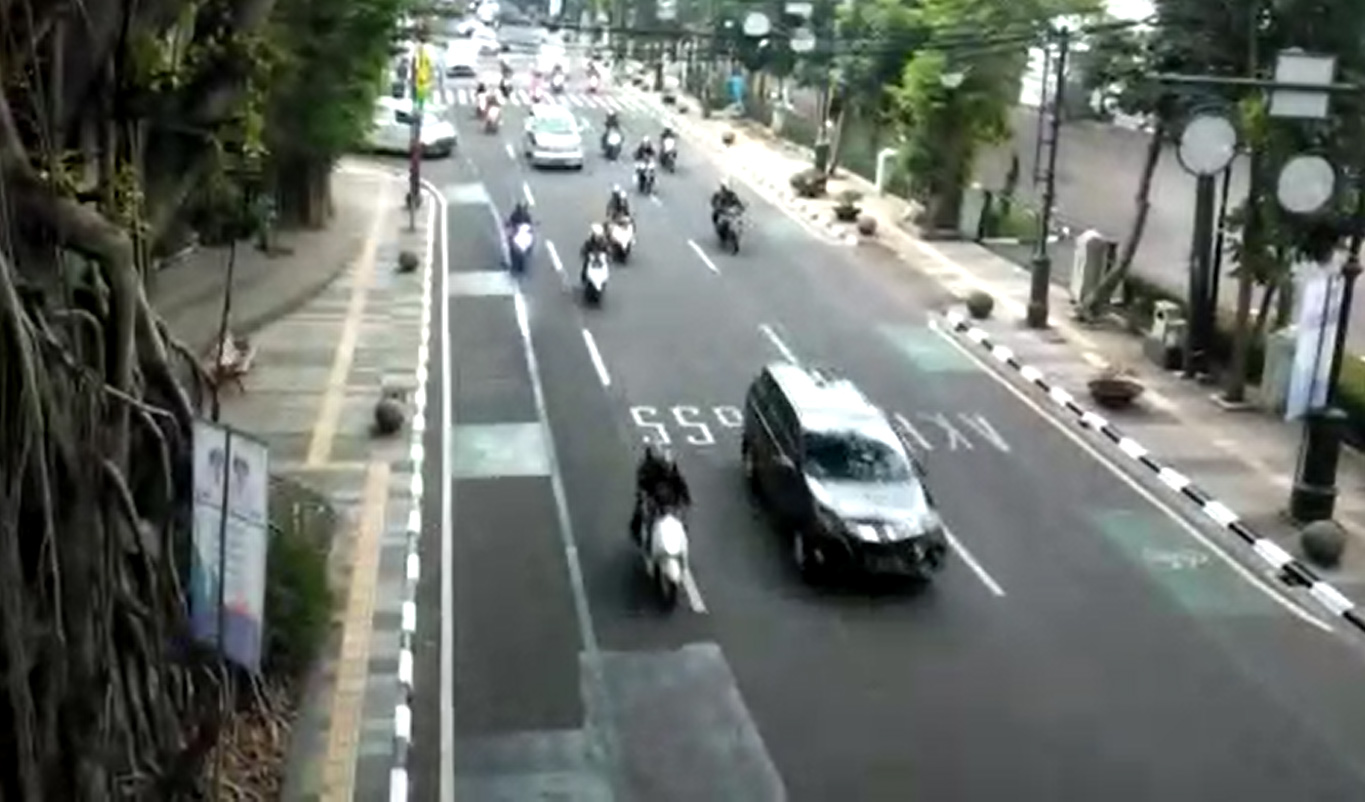mobil: (728, 353, 964, 610)
motor: (618, 435, 702, 621), (701, 172, 756, 262), (495, 190, 544, 284), (573, 218, 620, 315), (599, 179, 645, 272)
